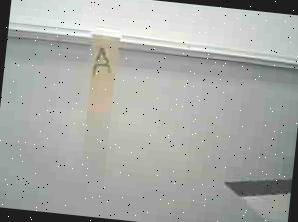Bottle A: (78, 22, 134, 127)
